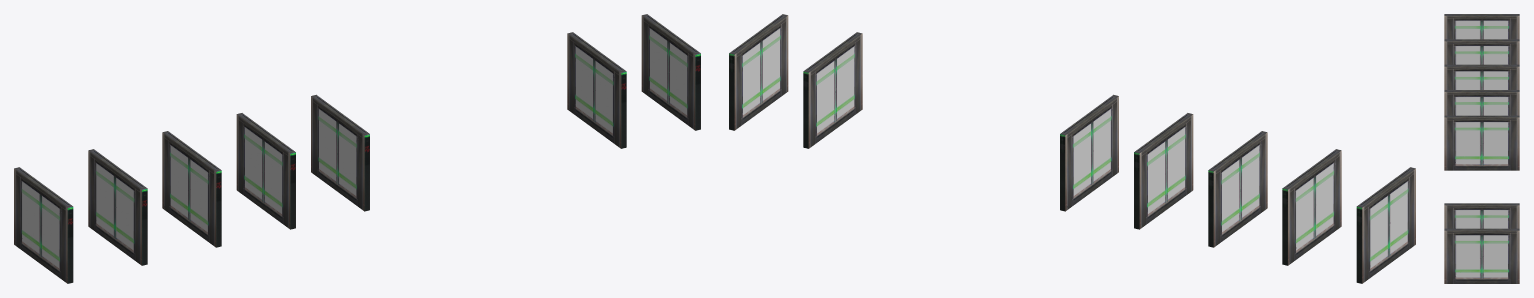
The model's file is Tourniquet02b_Group.FBX.
3 renders of one model, left to right at view 1: azimuth 30°, elevation 25°; view 2: azimuth 150°, elevation 25°; view 3: azimuth 270°, elevation 25°, orthographic. The views are drawn at different scales.
Parts seen in each view (by area): view 1: Tourniquet02b_Group; view 2: Tourniquet02b_Group; view 3: Tourniquet02b_Group.
Boxes of the visible parts, left/top/right/bottom form: Tourniquet02b_Group: left=14, top=14, right=700, bottom=283; Tourniquet02b_Group: left=729, top=14, right=1415, bottom=283; Tourniquet02b_Group: left=1444, top=14, right=1519, bottom=283.
Bounding box in the file's own units: 10879 × 1250 × 1600.
